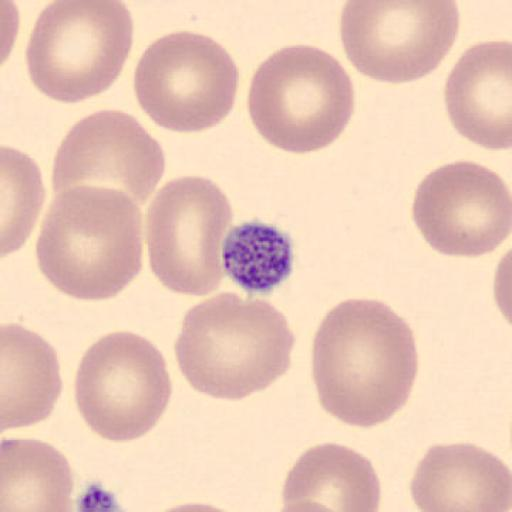Platelet: (218, 216, 298, 296)
RBC: (310, 295, 420, 431), (172, 291, 297, 402), (35, 184, 144, 304), (246, 42, 356, 156), (50, 106, 168, 211), (22, 0, 135, 104), (72, 329, 174, 444), (132, 29, 242, 135), (144, 172, 234, 298), (339, 0, 462, 86), (410, 158, 512, 259), (443, 39, 512, 152), (280, 440, 384, 512), (409, 440, 511, 512), (1, 321, 64, 431), (1, 436, 76, 512), (1, 144, 46, 258), (492, 239, 512, 335), (492, 248, 512, 326), (0, 0, 21, 69), (142, 500, 253, 512), (276, 498, 348, 512)
